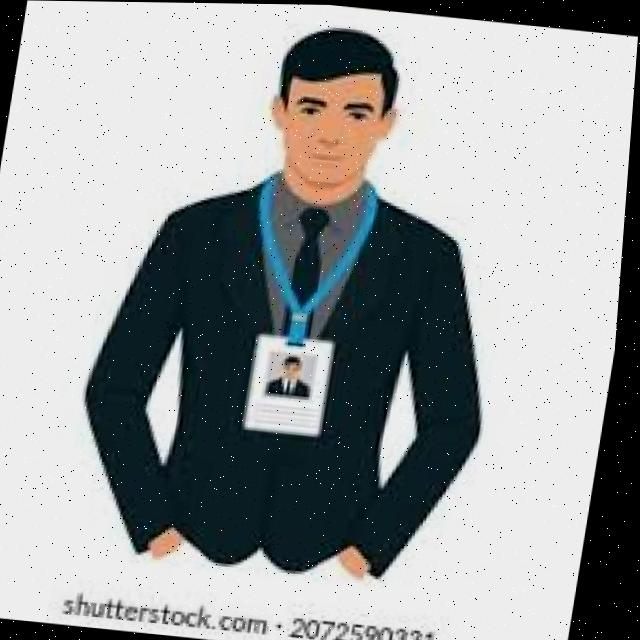id_card: (214, 161, 391, 445)
